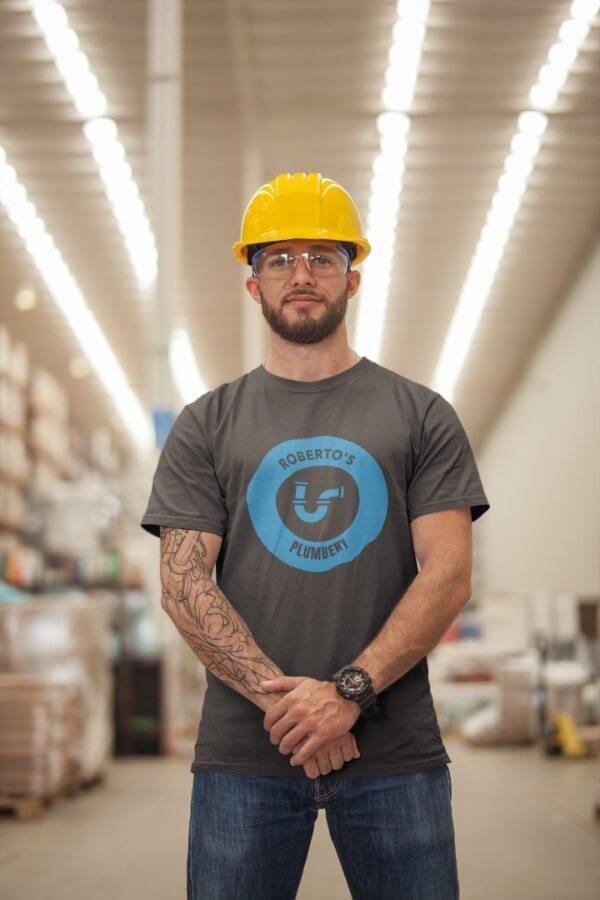helmet: (237, 170, 372, 261)
